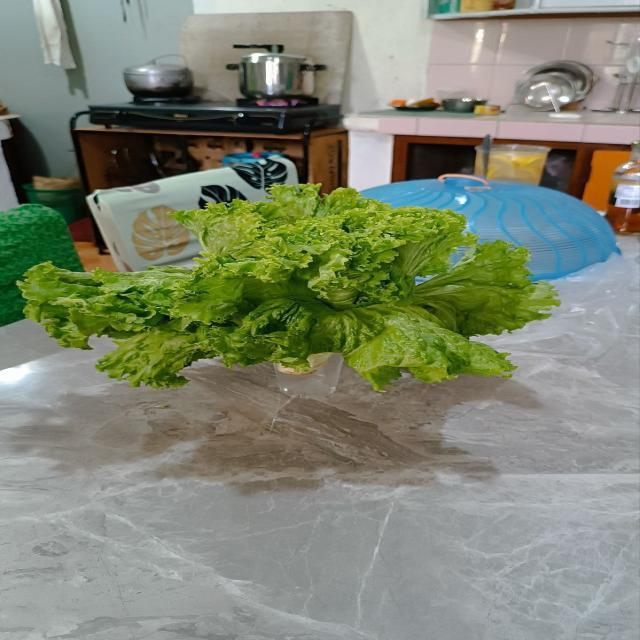Lettuce-Ready-to-Harvest: (14, 187, 551, 392)
